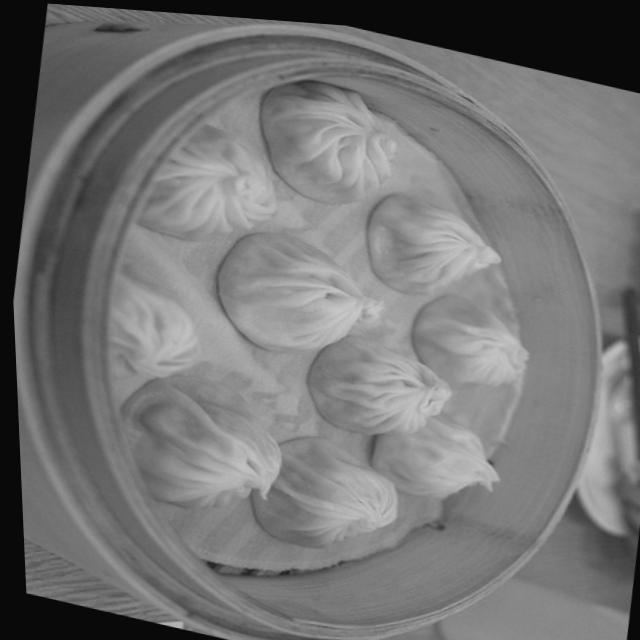带馅早点: (25, 1, 640, 640)
